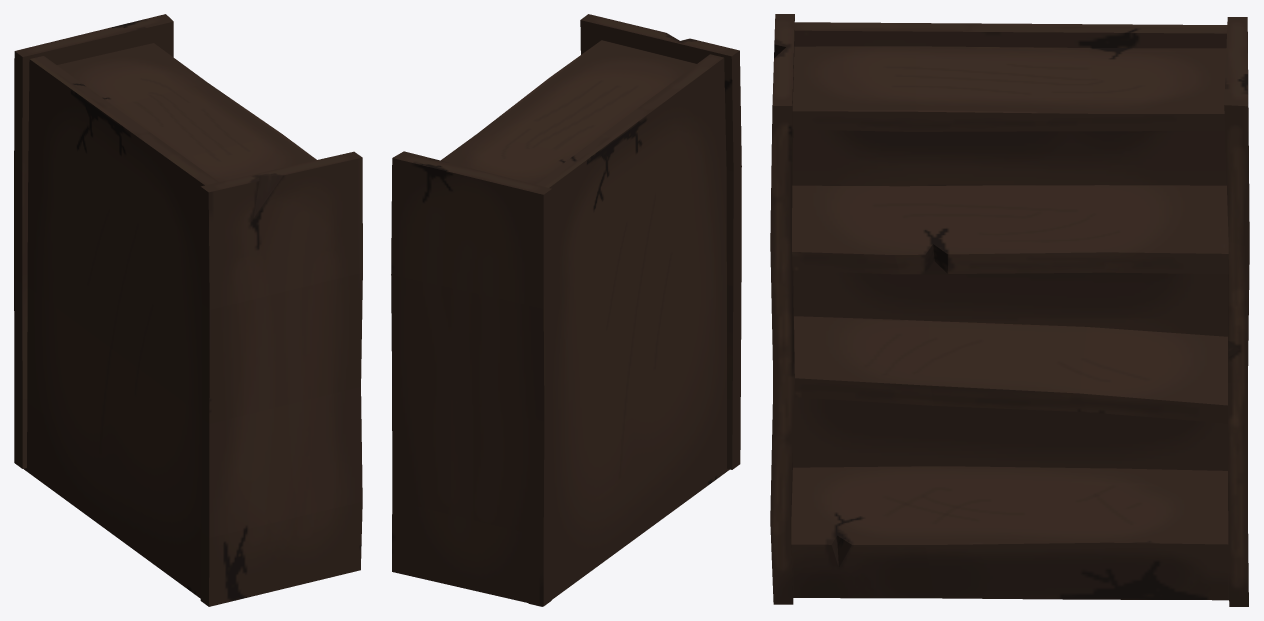
The model's file is Shelf.fbx.
The picture shows the model from 3 angles, left to right: view 1: azimuth 30°, elevation 25°; view 2: azimuth 150°, elevation 25°; view 3: azimuth 270°, elevation 25°; orthographic projection. The views are drawn at different scales.
Parts seen in each view (by area): view 1: Shelf; view 2: Shelf; view 3: Shelf.
Boxes of the visible parts, <box> form: Shelf: <box>14,14,362,606</box>; Shelf: <box>391,14,741,606</box>; Shelf: <box>770,14,1249,606</box>.
Size of the model in its own units: 0.9378 by 2.44 by 2.1.
